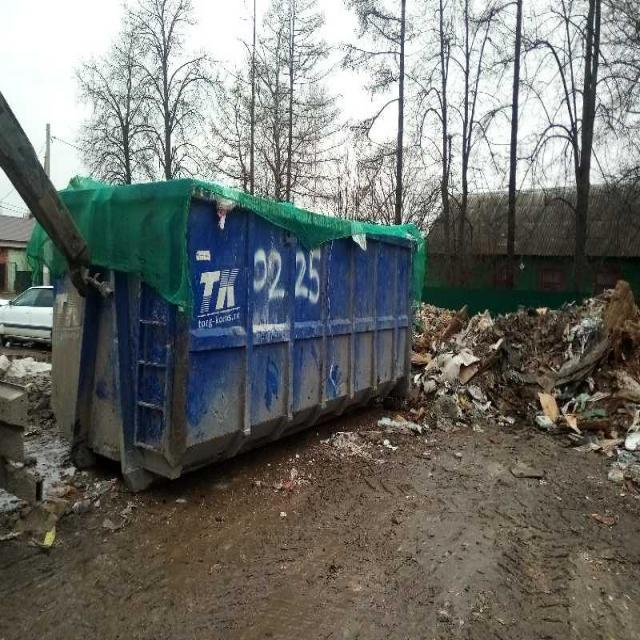Dumpster: (43, 180, 418, 480)
